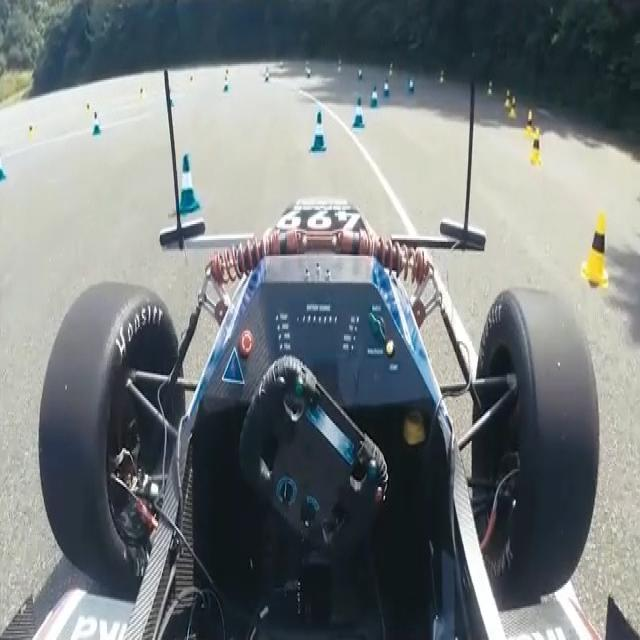blue_cone: (176, 154, 202, 217), (311, 111, 326, 152), (352, 95, 365, 128), (93, 111, 102, 137), (370, 85, 380, 108)
yellow_cone: (581, 210, 609, 288), (528, 127, 543, 166), (523, 110, 536, 140), (507, 96, 517, 121)
